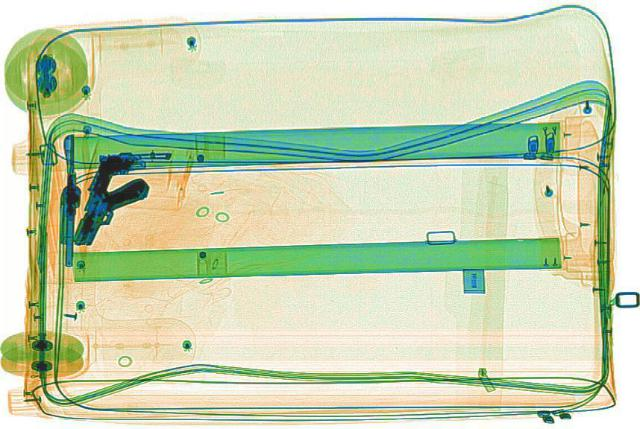Gun: (56, 146, 166, 257), (67, 171, 151, 248), (48, 133, 84, 266)
